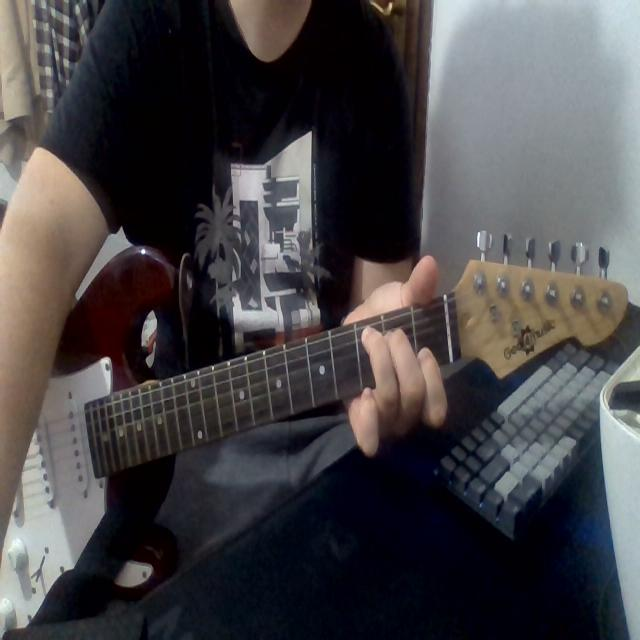Chord: (348, 280, 455, 435)
